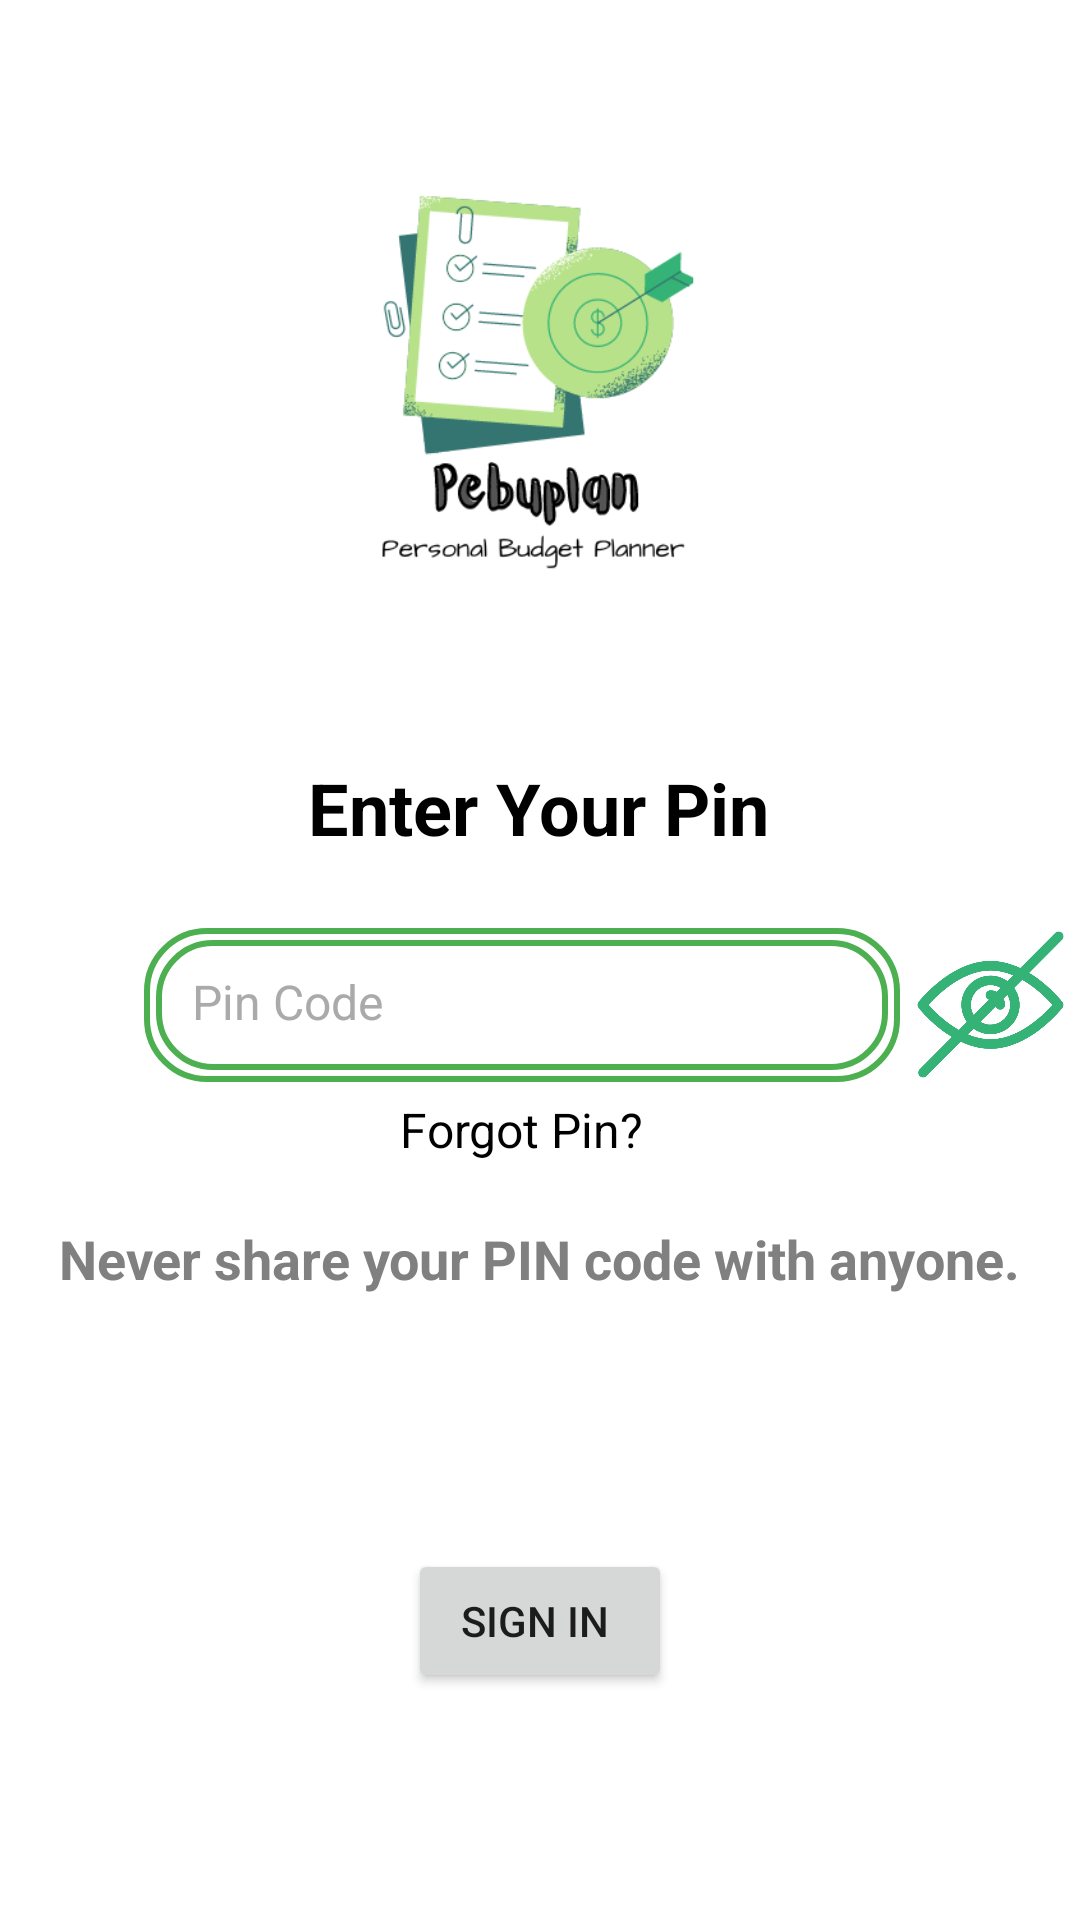

Icon bounding boxes for this 1080 x 1920 phone screenshot, format (x1, y1, x2, y2):
hide password: (917, 931, 1064, 1078)
